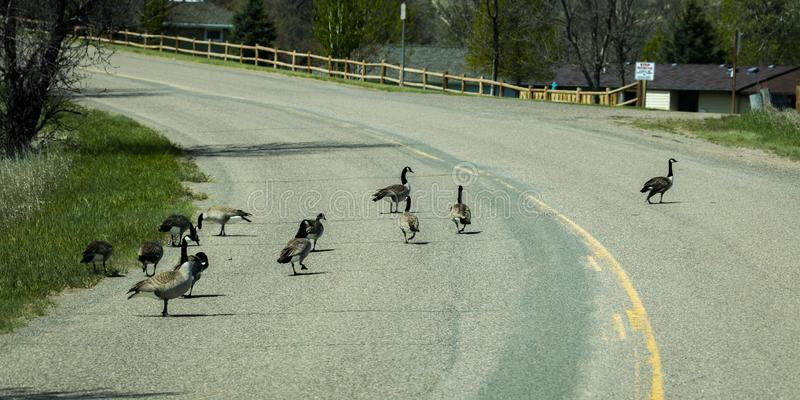goose: (123, 247, 217, 318), (370, 164, 419, 216), (279, 216, 316, 278), (638, 154, 681, 207), (197, 200, 258, 235), (77, 235, 121, 274), (160, 209, 202, 244), (396, 195, 422, 246), (133, 234, 163, 276), (448, 183, 471, 232), (302, 211, 331, 247)
